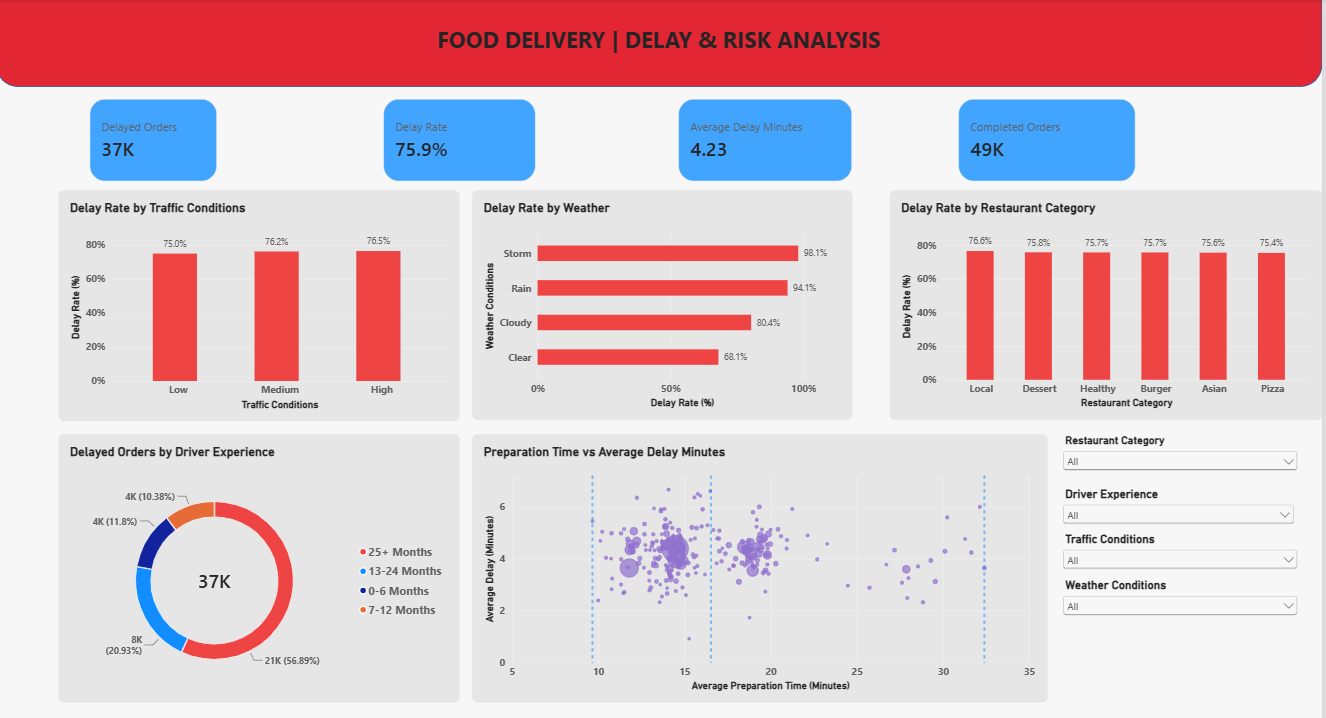

This screenshot's page, from the dashboard's own definition file:
{"tool":"powerbi","page":{"name":"Delay & Risk Analysis","canvas":[1920,1080],"ordinal":6},"visuals":[{"type":"shape","box":[0,0,1920,127.3],"z":0},{"type":"textbox","box":[0,36.4,1920,56.4],"z":1000},{"type":"cardVisual","fields":{"Data":["FDA.Delayed Orders"]},"box":[135.7,144.8,184.6,119.4],"z":2000},{"type":"cardVisual","fields":{"Data":["FDA.Delay Rate"]},"box":[561,144.8,220.8,119.4],"z":3000},{"type":"cardVisual","fields":{"Data":["FDA.Average Delay Minutes"]},"box":[988.1,144.8,251.5,119.4],"z":4000},{"type":"cardVisual","fields":{"Data":["FDA.Completed Orders"]},"box":[1393.4,144.8,257,119.4],"z":5000},{"type":"clusteredColumnChart","title":"Delay Rate by Traffic Conditions","fields":{"Category":["FDA.traffic_level"],"Y":["FDA.Delay Rate"]},"box":[90.5,276.9,580.9,334.8],"z":6000},{"type":"clusteredBarChart","title":"Delay Rate by Weather","fields":{"Category":["FDA.weather"],"Y":["FDA.Delay Rate"]},"box":[689.5,276.9,550.1,333],"z":7000},{"type":"clusteredColumnChart","title":"Delay Rate by Restaurant Category","fields":{"Category":["FDA.restaurant_primary_category"],"Y":["FDA.Delay Rate"]},"box":[1293.9,276.9,626.1,333],"z":8000},{"type":"donutChart","title":"Delayed Orders by Driver Experience","fields":{"Category":["FDA.driver_experience_group"],"Y":["FDA.Delayed Orders"]},"box":[90.5,629.8,580.9,389.1],"z":9000},{"type":"scatterChart","title":"Preparation Time vs Average Delay Minutes","fields":{"Category":["FDA.restaurant_id"],"Size":["FDA.Completed Orders"],"X":["FDA.Average Preparation Time"],"Y":["FDA.Average Delay Minutes"]},"box":[689.5,629.8,832.4,389.1],"z":10000},{"type":"slicer","fields":{"Values":["FDA.traffic_level"]},"box":[1540,770.9,349.3,54.3],"z":11000},{"type":"slicer","fields":{"Values":["FDA.weather"]},"box":[1540,837.9,349.3,54.3],"z":12000},{"type":"slicer","fields":{"Values":["FDA.restaurant_primary_category"]},"box":[1540,629.8,349.3,74.2],"z":13000},{"type":"slicer","fields":{"Values":["FDA.driver_experience_group"]},"box":[1540,705.8,343.8,54.3],"z":14000}]}

Visuals, with their boxes on the page's 1920x1080 design canvas (x1, y1, x2, y2). These are canvas units, not pixel positions in the 1326x718 screenshot, which may show the page scaled, cropped or inside an application window:
shape: l=0, t=0, r=1920, b=127
textbox: l=0, t=36, r=1920, b=93
cardVisual - FDA.Delayed Orders: l=136, t=145, r=320, b=264
cardVisual - FDA.Delay Rate: l=561, t=145, r=782, b=264
cardVisual - FDA.Average Delay Minutes: l=988, t=145, r=1240, b=264
cardVisual - FDA.Completed Orders: l=1393, t=145, r=1650, b=264
"Delay Rate by Traffic Conditions" clusteredColumnChart: l=90, t=277, r=671, b=612
"Delay Rate by Weather" clusteredBarChart: l=690, t=277, r=1240, b=610
"Delay Rate by Restaurant Category" clusteredColumnChart: l=1294, t=277, r=1920, b=610
"Delayed Orders by Driver Experience" donutChart: l=90, t=630, r=671, b=1019
"Preparation Time vs Average Delay Minutes" scatterChart: l=690, t=630, r=1522, b=1019
slicer - FDA.traffic_level: l=1540, t=771, r=1889, b=825
slicer - FDA.weather: l=1540, t=838, r=1889, b=892
slicer - FDA.restaurant_primary_category: l=1540, t=630, r=1889, b=704
slicer - FDA.driver_experience_group: l=1540, t=706, r=1884, b=760
